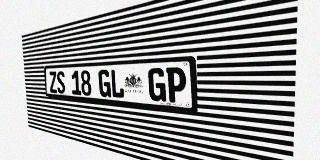1: (71, 70, 81, 95)
8: (80, 70, 92, 96)
G: (148, 68, 166, 102), (98, 69, 111, 97)
L: (110, 69, 124, 98)
P: (166, 67, 186, 103)
S: (56, 71, 65, 94)
Z: (49, 71, 57, 93)
